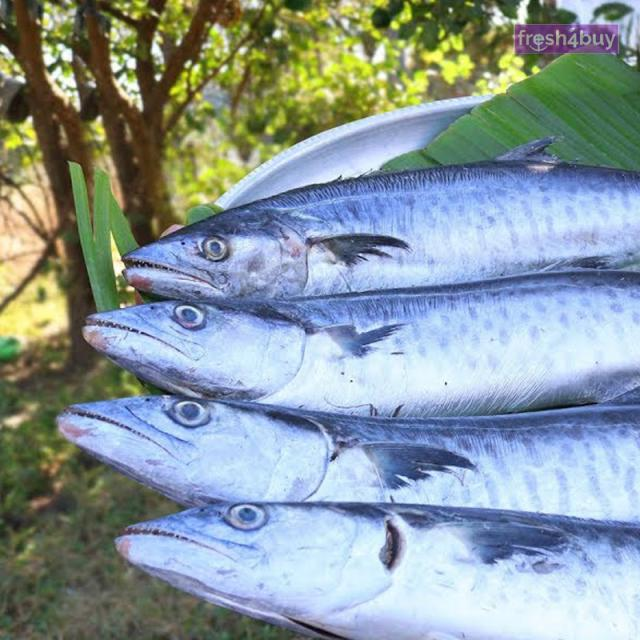seer: (87, 272, 639, 415), (63, 395, 639, 531)
